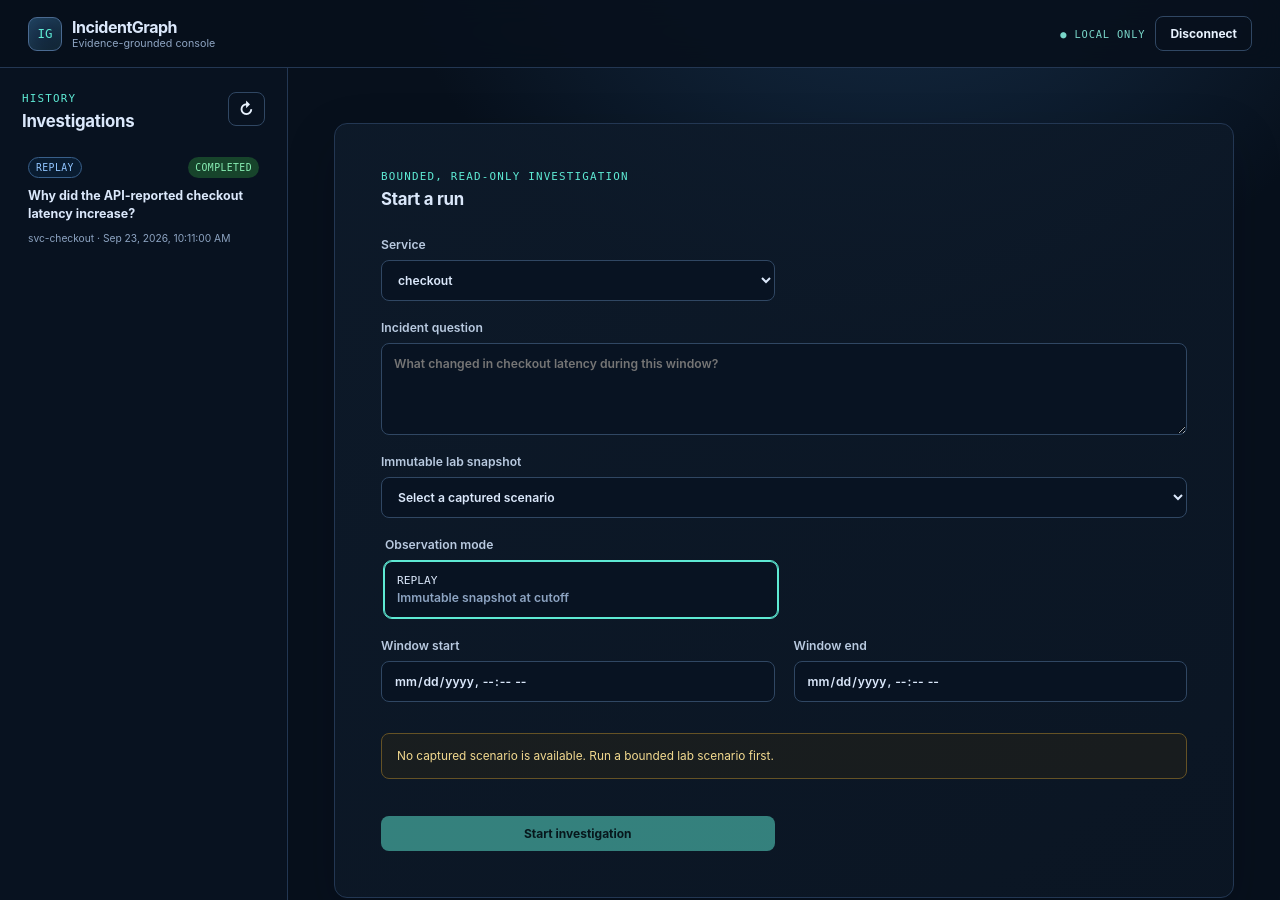
IncidentGraph console › renders investigation facts supplied by the API
This screenshot has width=1280, height=900.
Step 1. Click the button "Why did the API-reported" → (144,200), box [14, 143, 273, 258]
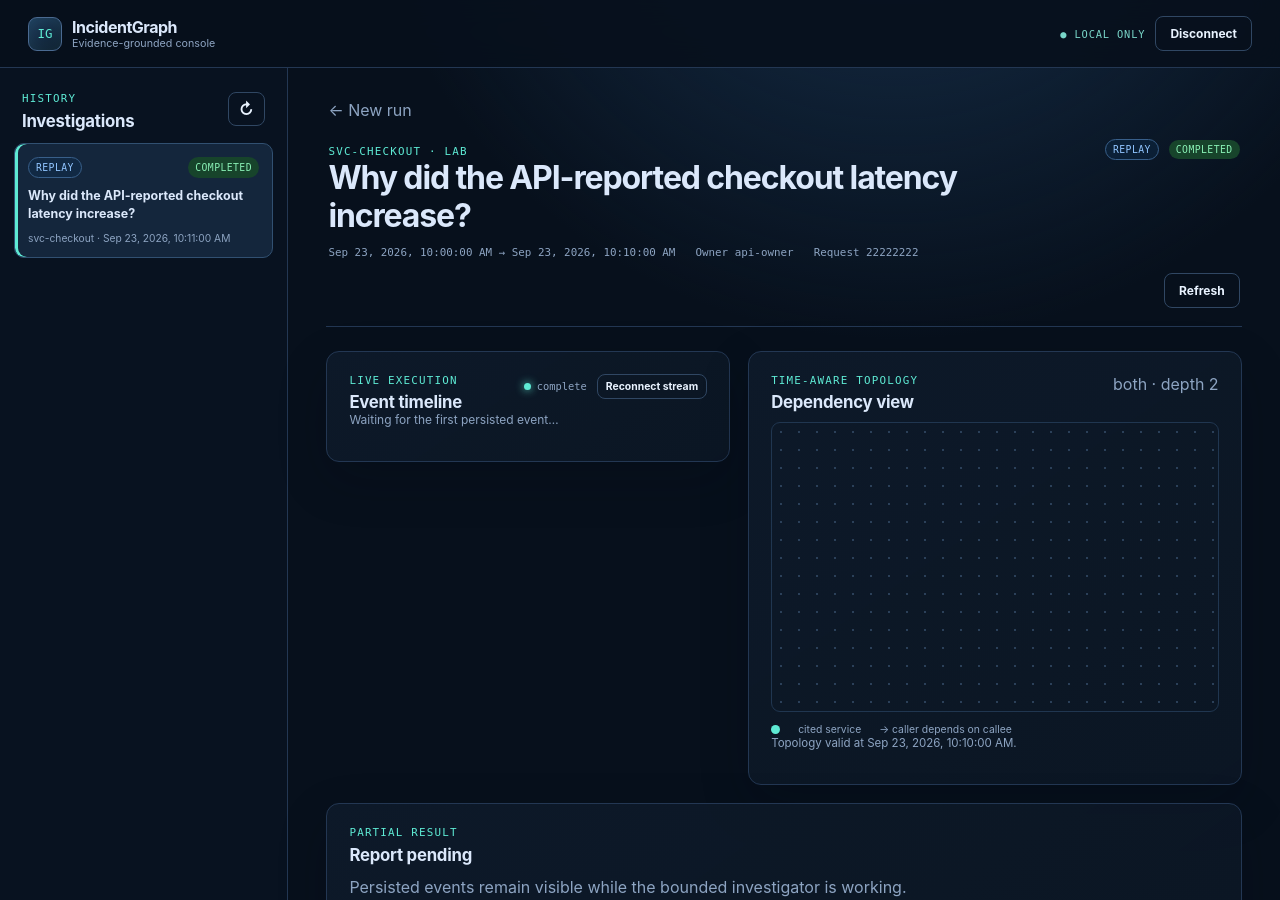
Expected: the heading "Why did the API-reported checkout latency increase?" is shown, [328, 158, 957, 235]
Expected: the text "Owner api-owner" is shown, [695, 246, 794, 259]
Expected: the heading "Report pending" is shown, [349, 845, 472, 865]
